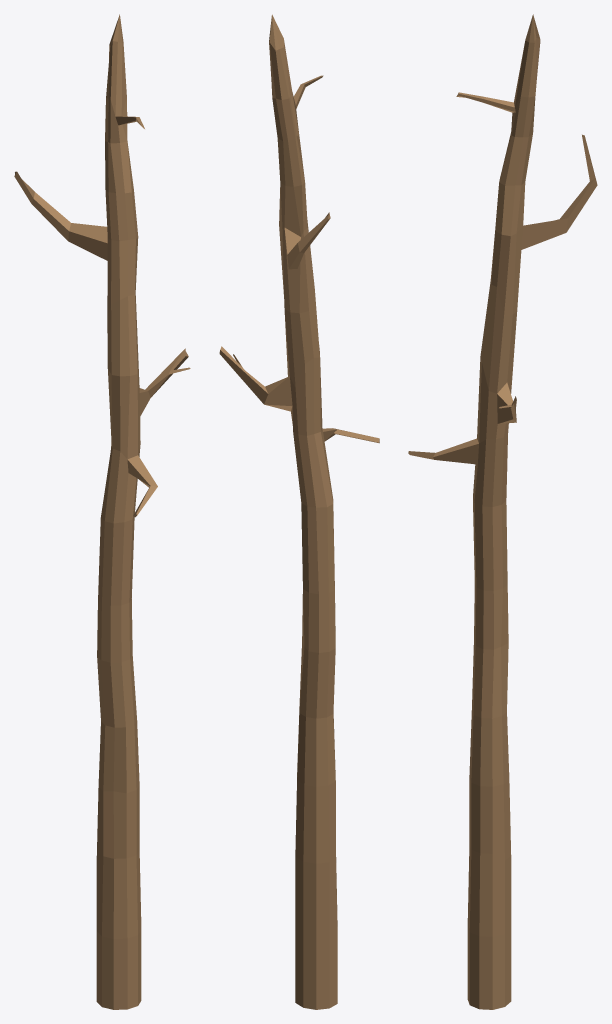
Rendered from fbxdeadtree2.fbx.
3 views of the same model, side by side, from view 1: azimuth 30°, elevation 25°; view 2: azimuth 150°, elevation 25°; view 3: azimuth 270°, elevation 25° (orthographic). The views are drawn at different scales.
Parts seen in each view (by area): view 1: pCylinder5; view 2: pCylinder5; view 3: pCylinder5.
Boxes of the visible parts, <box> form: pCylinder5: <box>14,14,190,1009</box>; pCylinder5: <box>219,14,379,1009</box>; pCylinder5: <box>408,14,597,1009</box>.
Size of the model in its own units: 3.34 by 21.83 by 3.75.
